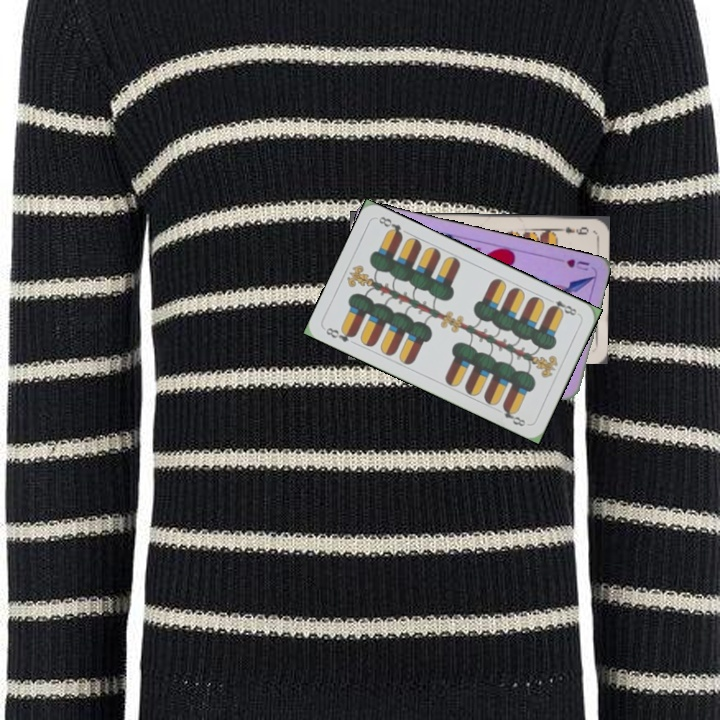E8: (544, 294, 582, 318), (322, 323, 358, 345)
E9: (553, 222, 591, 237)
HU: (562, 255, 592, 274)
